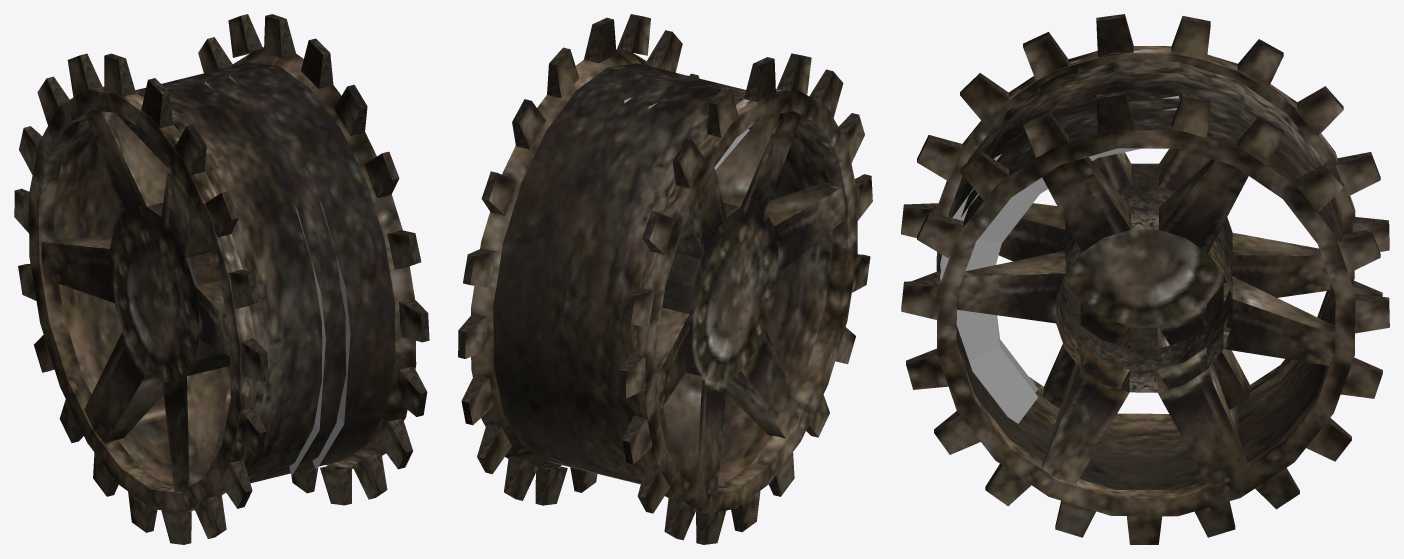
File: FrontWheel.fbx
3 views of the same model, side by side, from view 1: azimuth 30°, elevation 25°; view 2: azimuth 150°, elevation 25°; view 3: azimuth 270°, elevation 25° (orthographic).
Visible parts, largest first — view 1: FrontWheel; view 2: FrontWheel; view 3: FrontWheel.
Boxes of the visible parts, bbox=[...] form: FrontWheel: bbox=[14, 14, 429, 544]; FrontWheel: bbox=[458, 14, 872, 544]; FrontWheel: bbox=[901, 14, 1389, 544].
Size of the model in its own units: 39.39 by 97.29 by 95.76.
